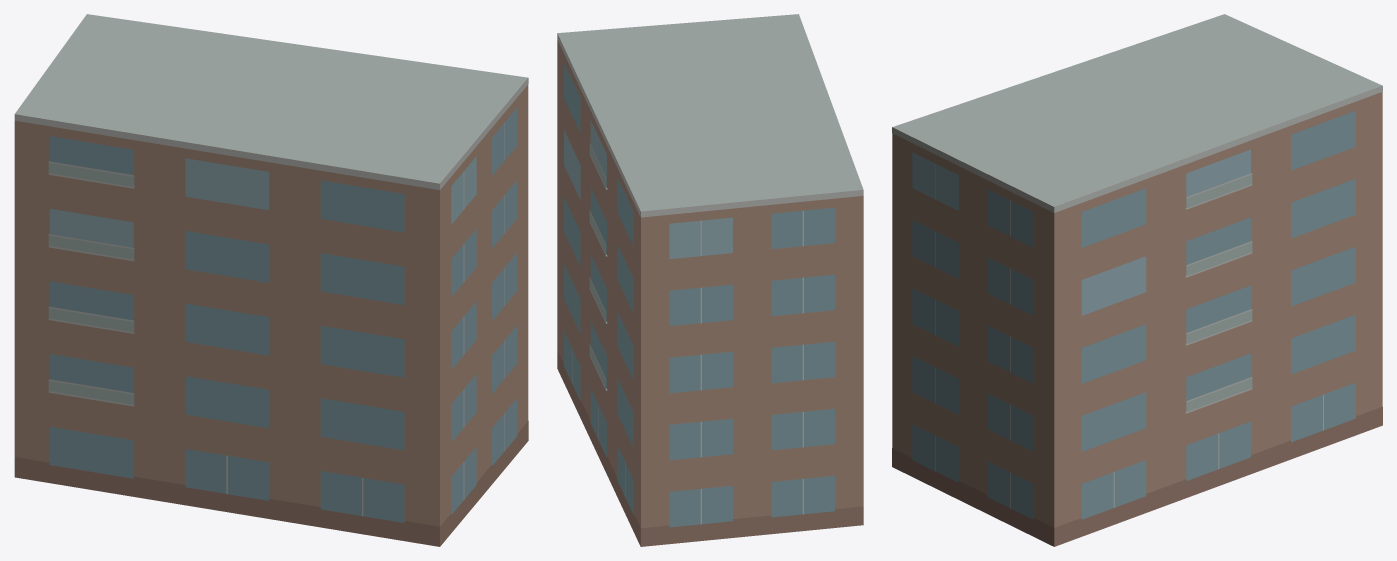
Rendered from survey-upis-32942807.glb.
3 renders of one model, left to right at view 1: azimuth 30°, elevation 25°; view 2: azimuth 150°, elevation 25°; view 3: azimuth 270°, elevation 25°, orthographic. The views are drawn at different scales.
Visible parts, largest first — view 1: survey-upis-32942807.tmp; view 2: survey-upis-32942807.tmp; view 3: survey-upis-32942807.tmp.
Part boxes in pixels (left/top/right/bottom): survey-upis-32942807.tmp: left=14, top=14, right=528, bottom=546; survey-upis-32942807.tmp: left=557, top=14, right=863, bottom=546; survey-upis-32942807.tmp: left=892, top=14, right=1382, bottom=546.
Size of the model in its own units: 16.76 by 13.75 by 18.
